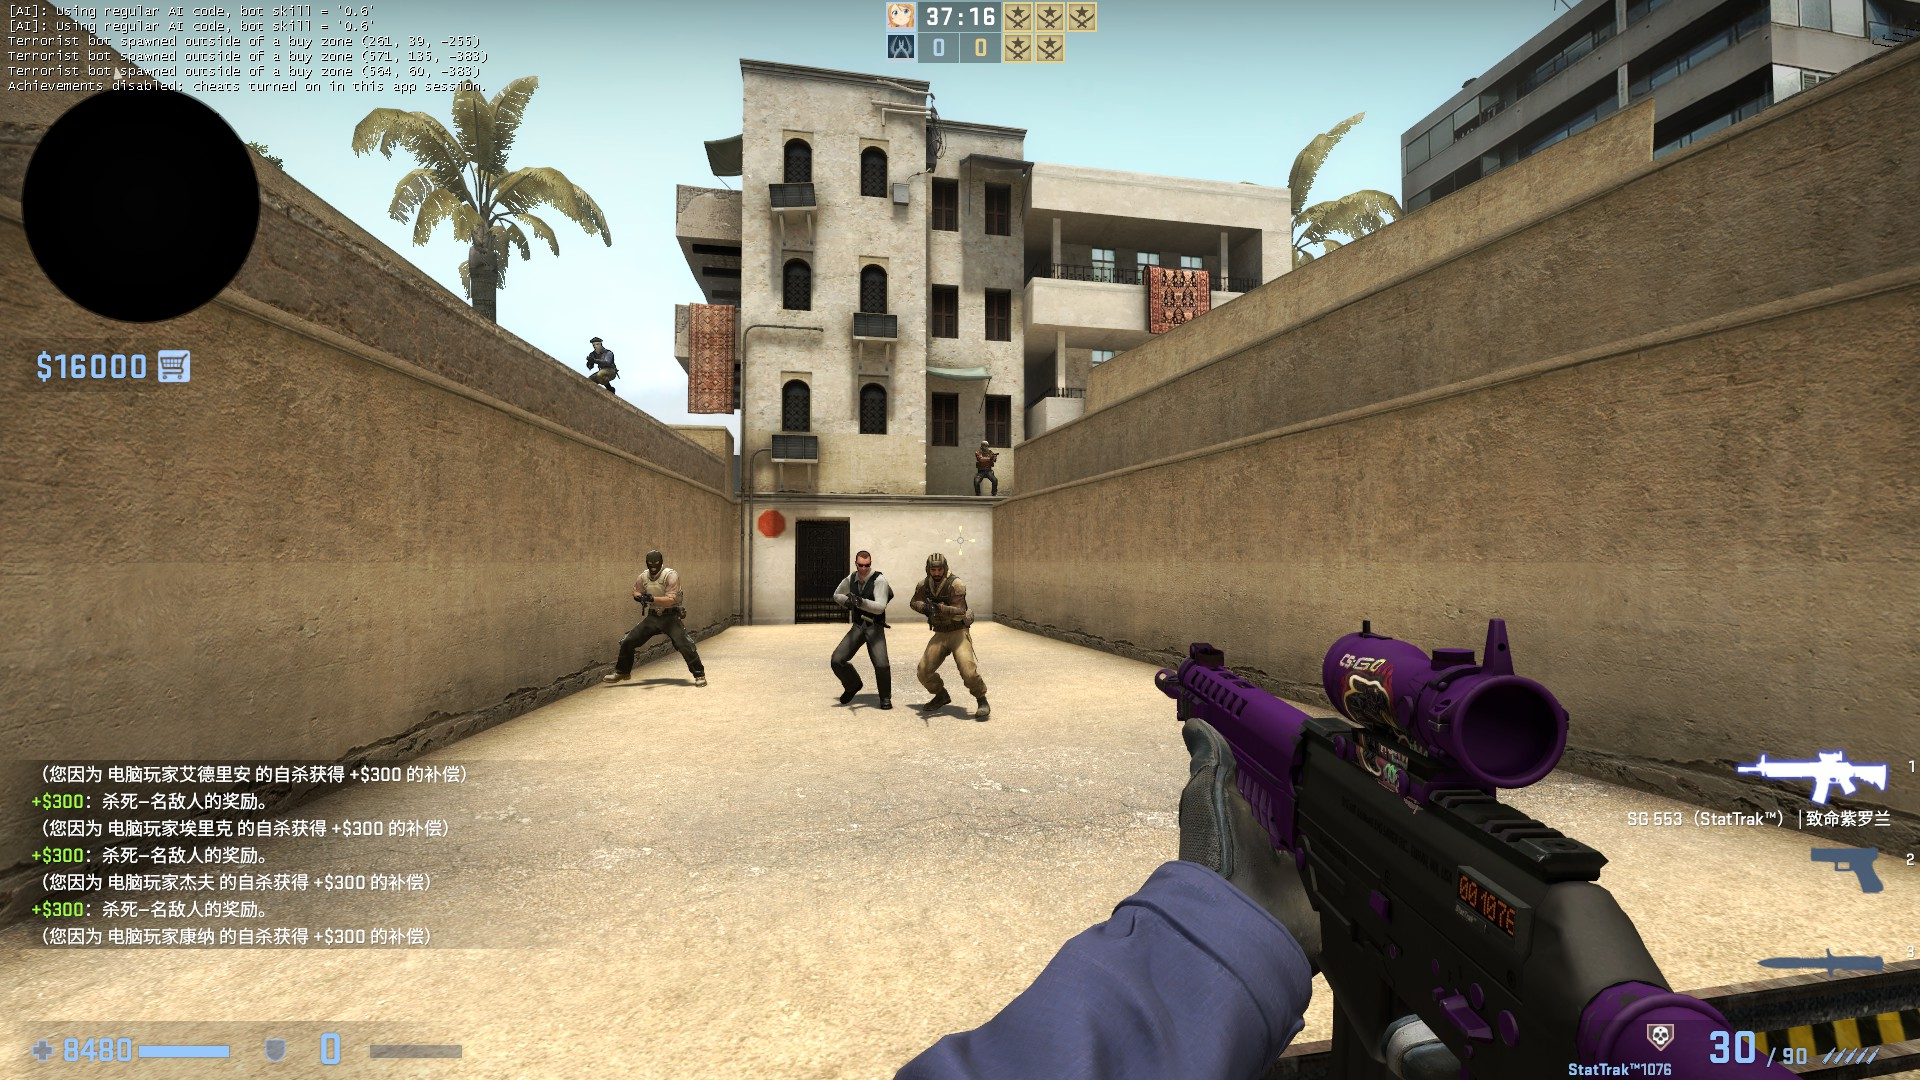head: (924, 553, 946, 580), (853, 549, 872, 575), (644, 548, 662, 575), (588, 335, 604, 352), (978, 439, 990, 452)
